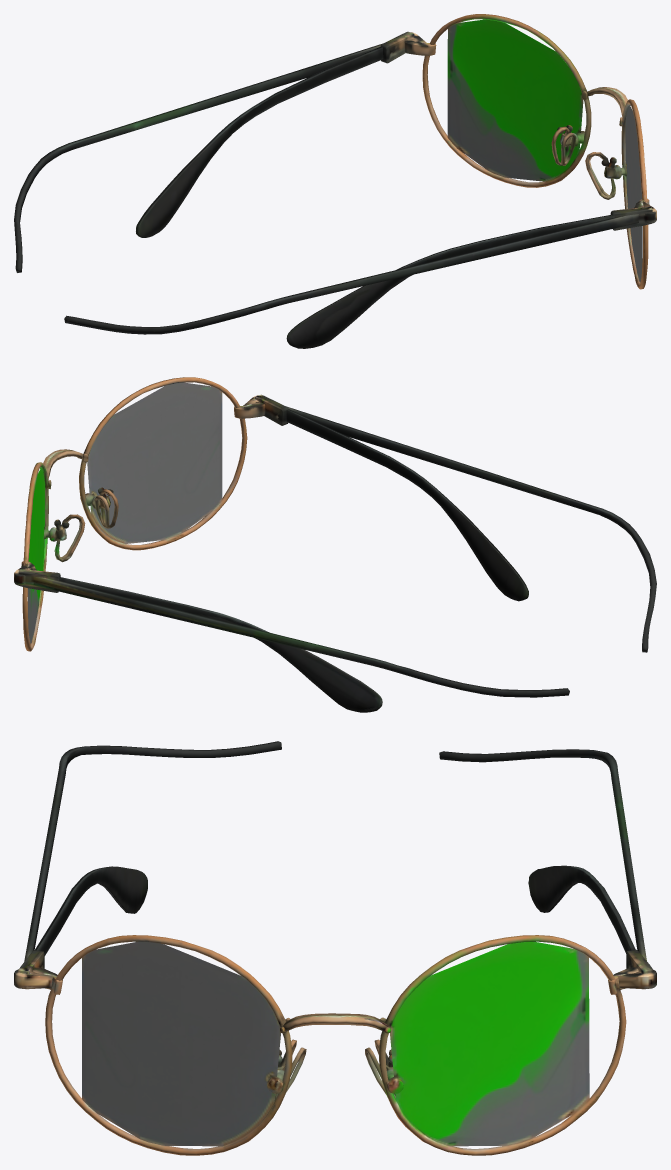
The model's file is oculos_redondo_dourado.glb.
3 views of the same model, one above another, from view 1: azimuth 30°, elevation 25°; view 2: azimuth 150°, elevation 25°; view 3: azimuth 270°, elevation 25° (orthographic). The views are drawn at different scales.
Visible parts, largest first — view 1: oculos_redondo_dourado; view 2: oculos_redondo_dourado; view 3: oculos_redondo_dourado.
Boxes of the visible parts, x1,y1,x2,y2 form: oculos_redondo_dourado: (14,14,656,348); oculos_redondo_dourado: (14,377,656,712); oculos_redondo_dourado: (14,741,656,1155).
Bounding box in the file's own units: 0.6245 × 0.1694 × 0.4614.
Materials: 1 (1 with a texture image).
